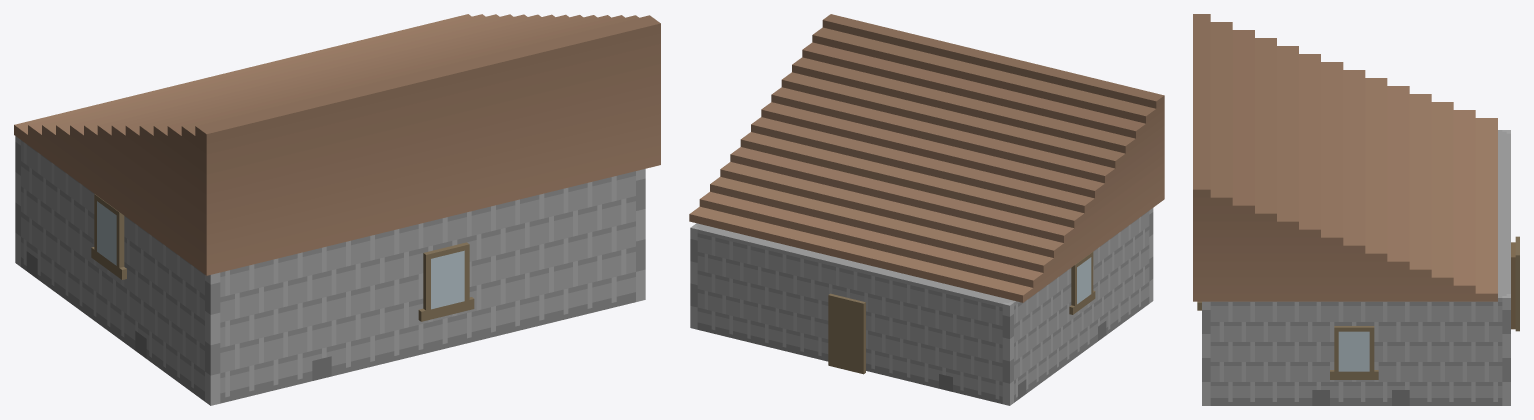
Rendered from ruina_01.glb.
3 views of the same model, side by side, from view 1: azimuth 30°, elevation 25°; view 2: azimuth 150°, elevation 25°; view 3: azimuth 270°, elevation 25° (orthographic). The views are drawn at different scales.
Parts seen in each view (by area): view 1: ruina_01; view 2: ruina_01; view 3: ruina_01.
Part boxes in pixels (left/top/right/bottom): ruina_01: left=14, top=14, right=660, bottom=405; ruina_01: left=689, top=14, right=1164, bottom=405; ruina_01: left=1193, top=14, right=1519, bottom=405.
Bounding box in the file's own units: 9.4 × 5.5 × 7.4.
